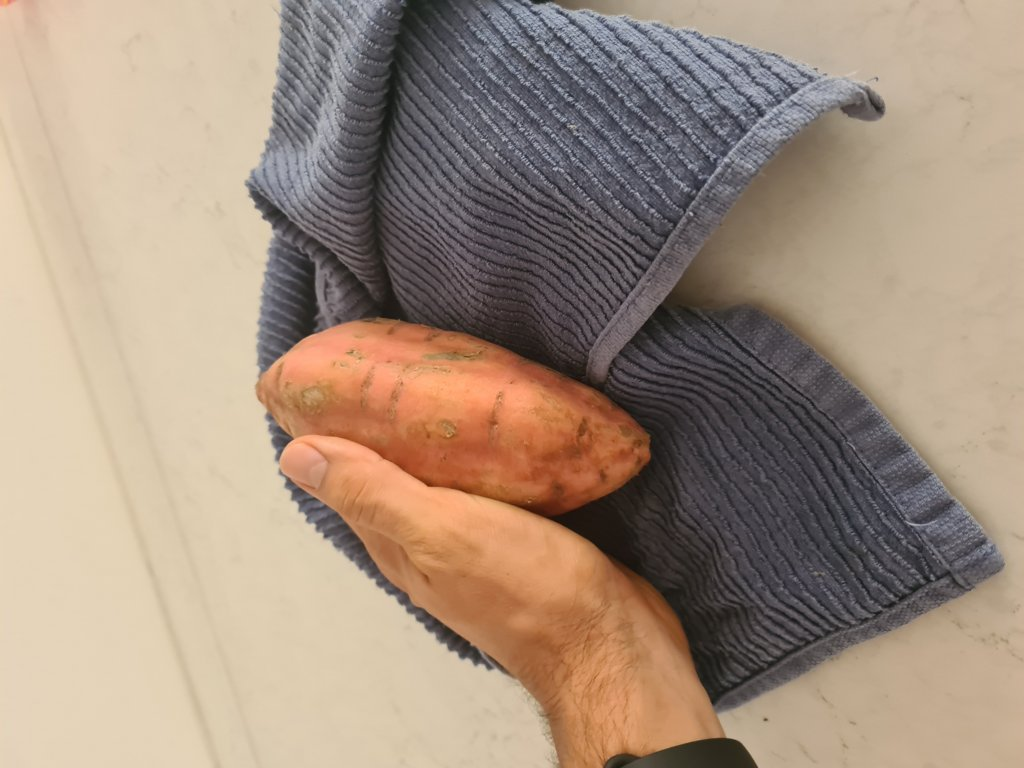Sweet Potatow: (244, 314, 649, 525)
